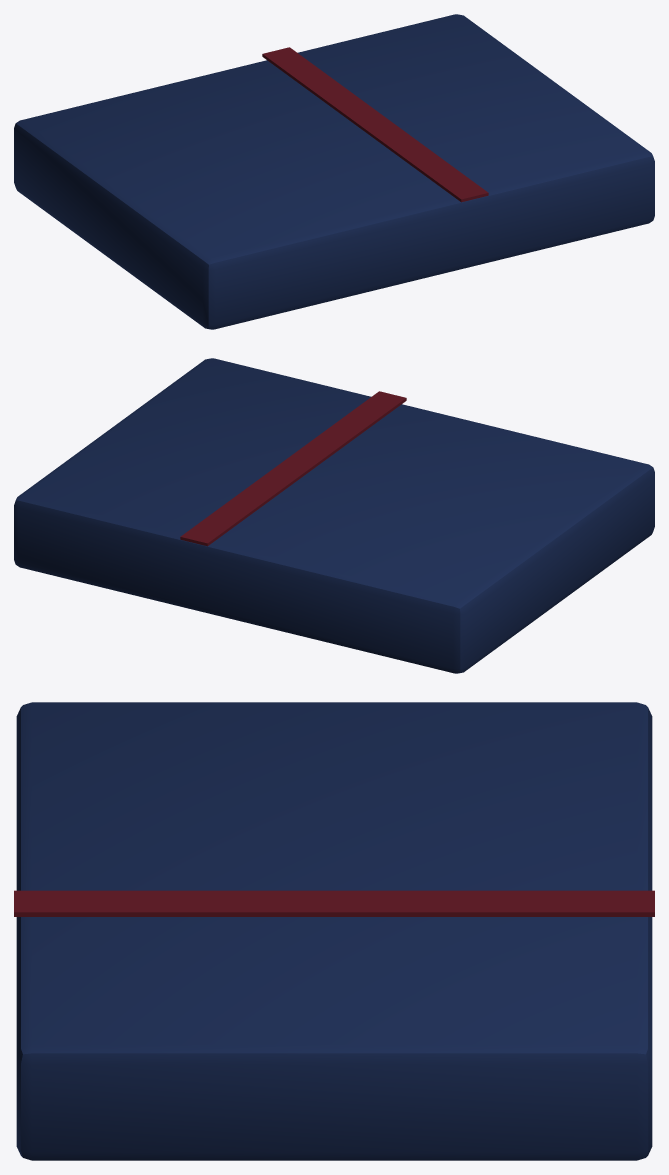
Rendered from marlin_file.glb.
3 views of the same model, one above another, from view 1: azimuth 30°, elevation 25°; view 2: azimuth 150°, elevation 25°; view 3: azimuth 270°, elevation 25° (orthographic). The views are drawn at different scales.
Visible parts, largest first — view 1: marlin_file; view 2: marlin_file; view 3: marlin_file.
Boxes of the visible parts, box(x1,y1,x2,y2) form: marlin_file: box(14, 14, 654, 329); marlin_file: box(14, 358, 654, 673); marlin_file: box(14, 702, 654, 1160).
Bounding box in the file's own units: 0.33 × 0.052 × 0.252.
